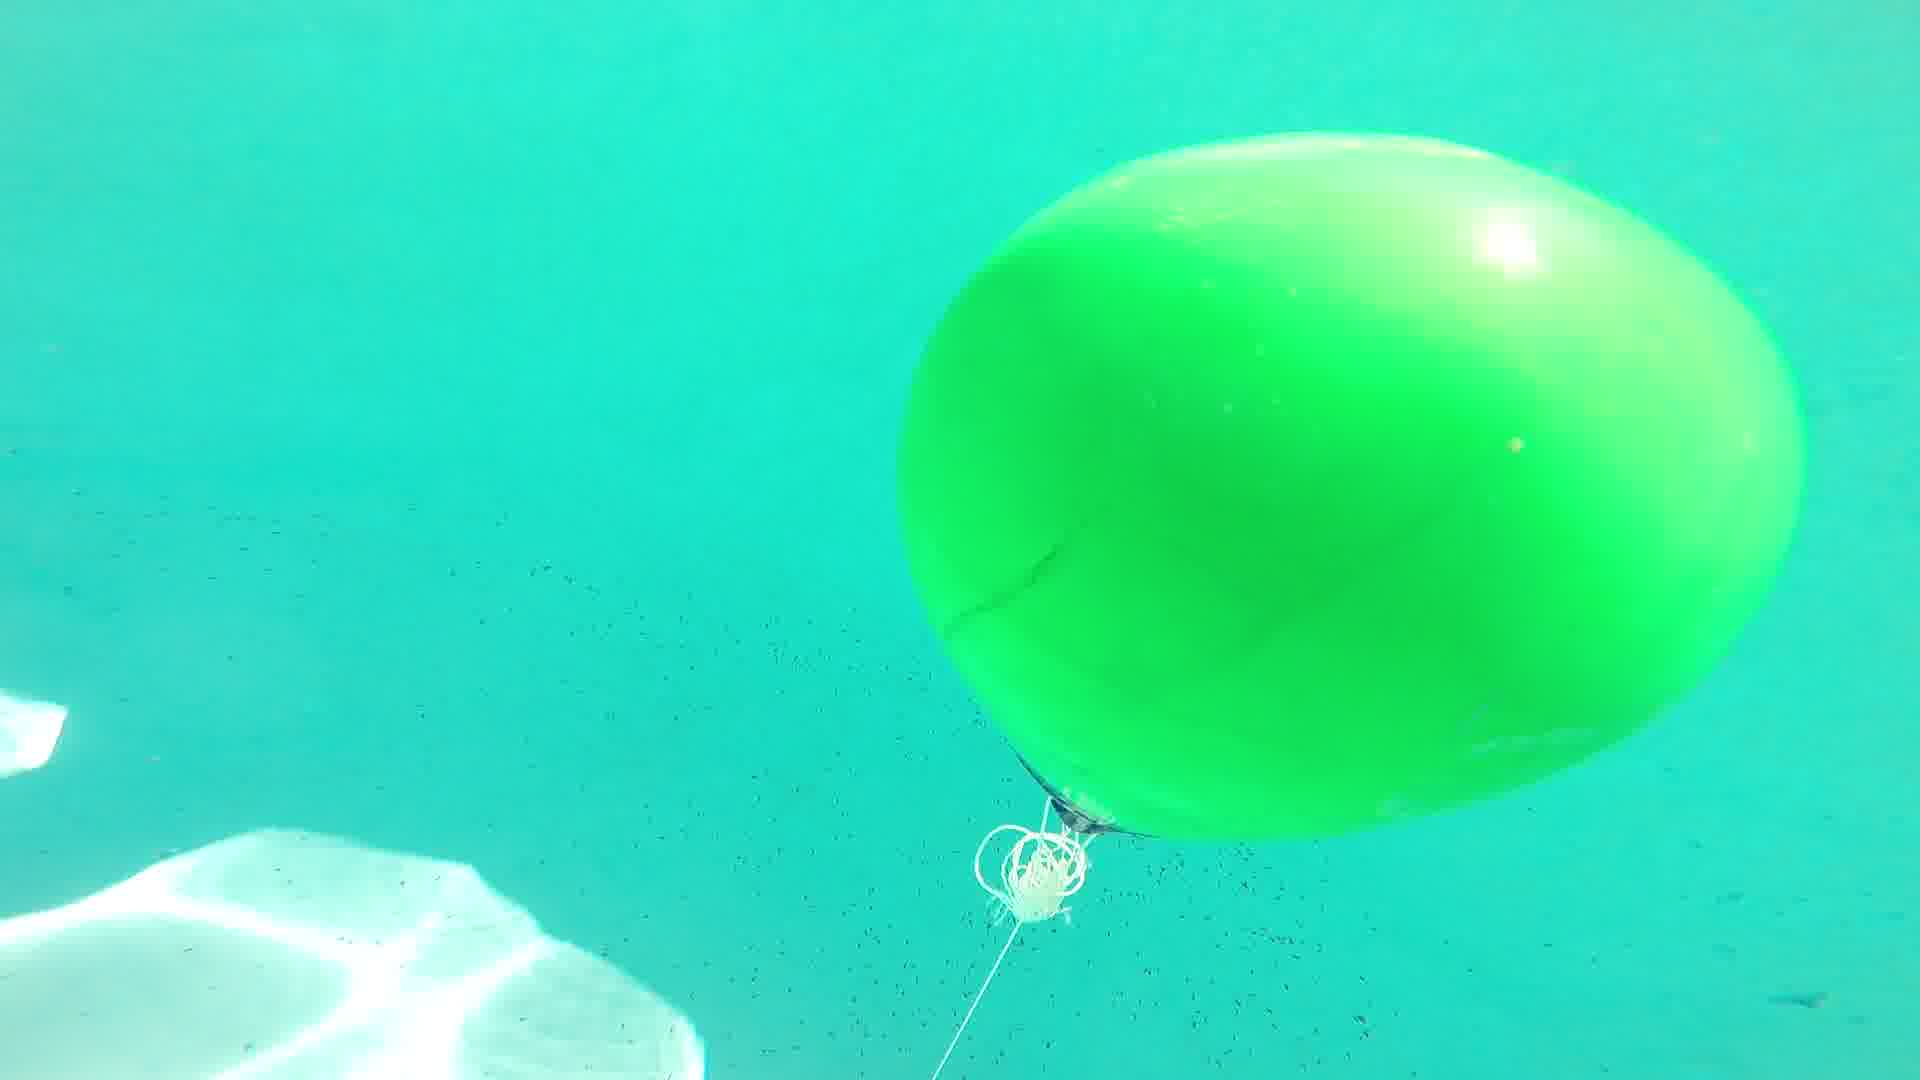yellow_buoy: (891, 125, 1816, 861)
